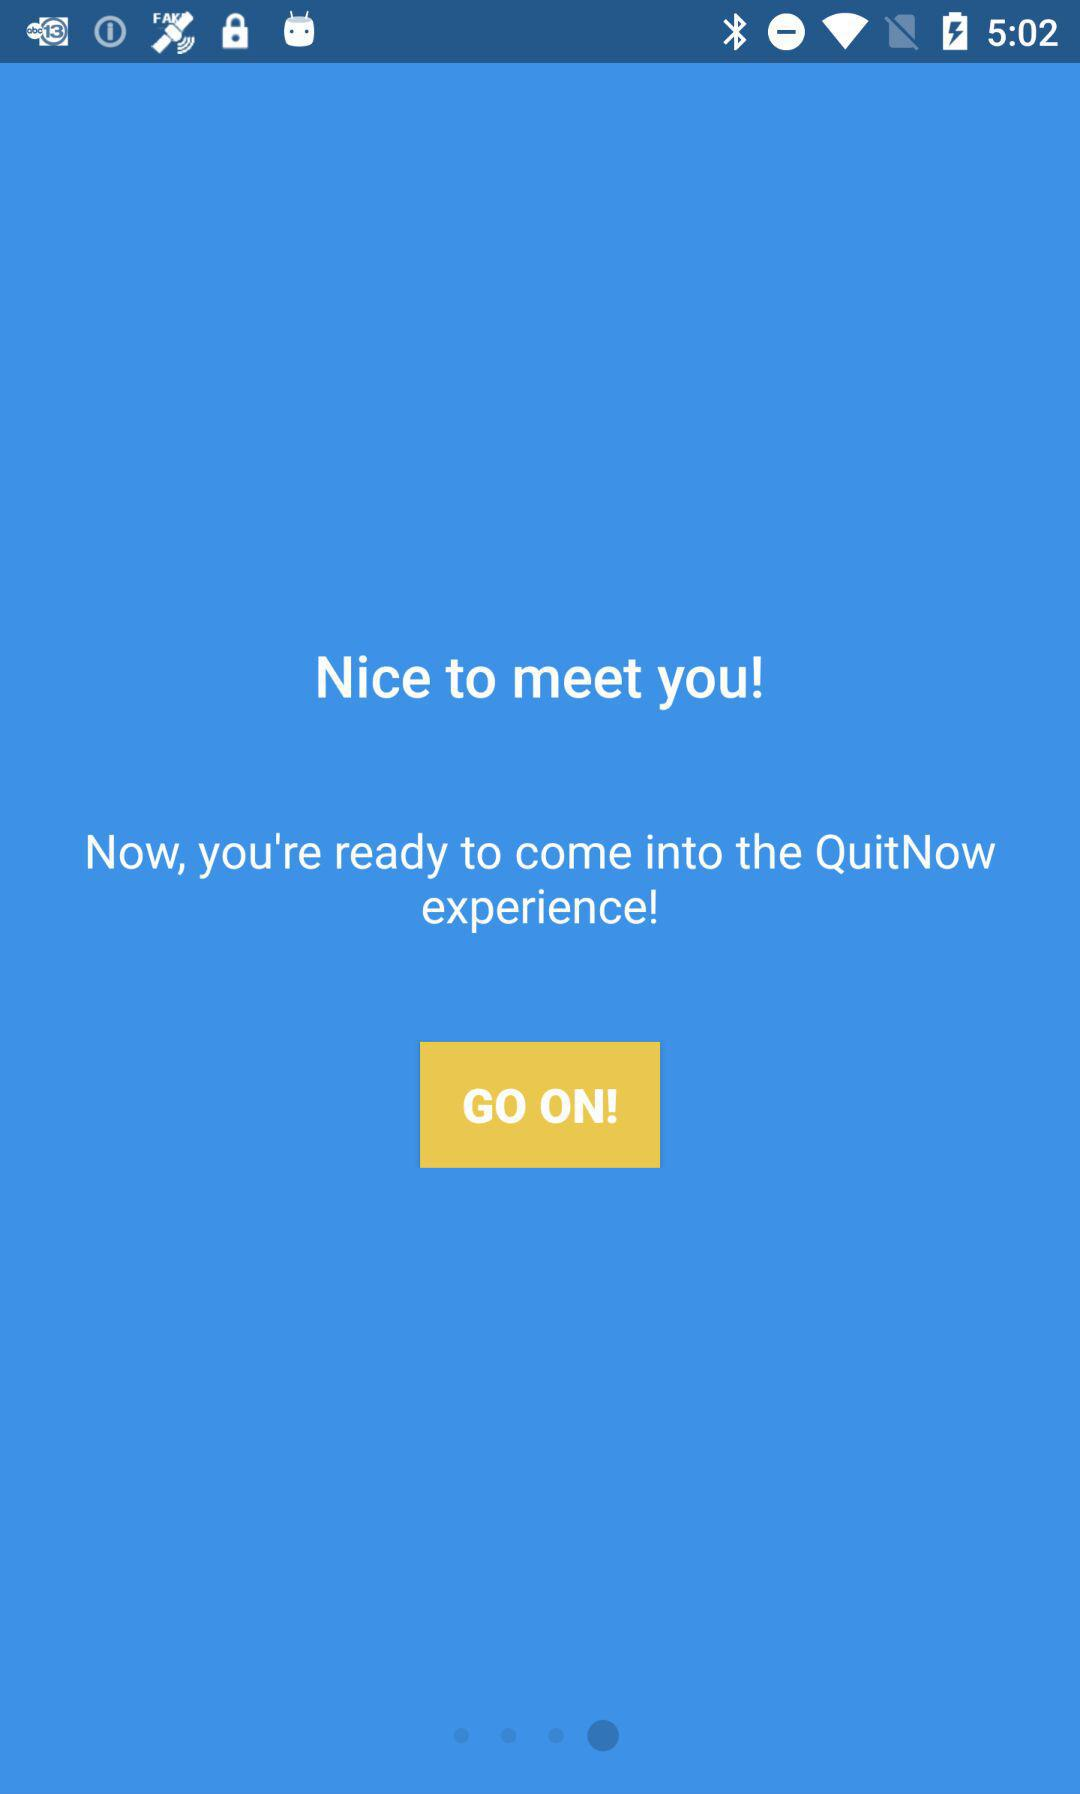PageIndicator: (452, 1718, 621, 1753)
Text: (87, 830, 997, 937), (316, 654, 764, 712)
TextButton: (420, 1042, 661, 1169)
UpperTaskBar: (1, 1, 1080, 64)
